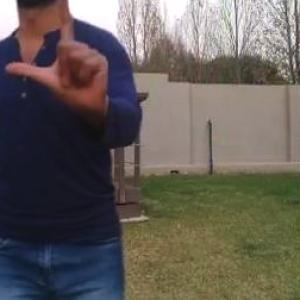land_hand: (5, 0, 114, 110)
